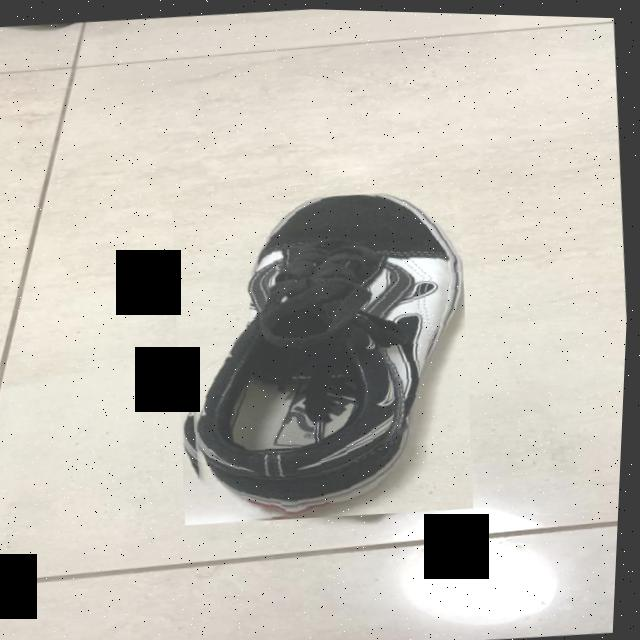shoe: (162, 179, 489, 531)
